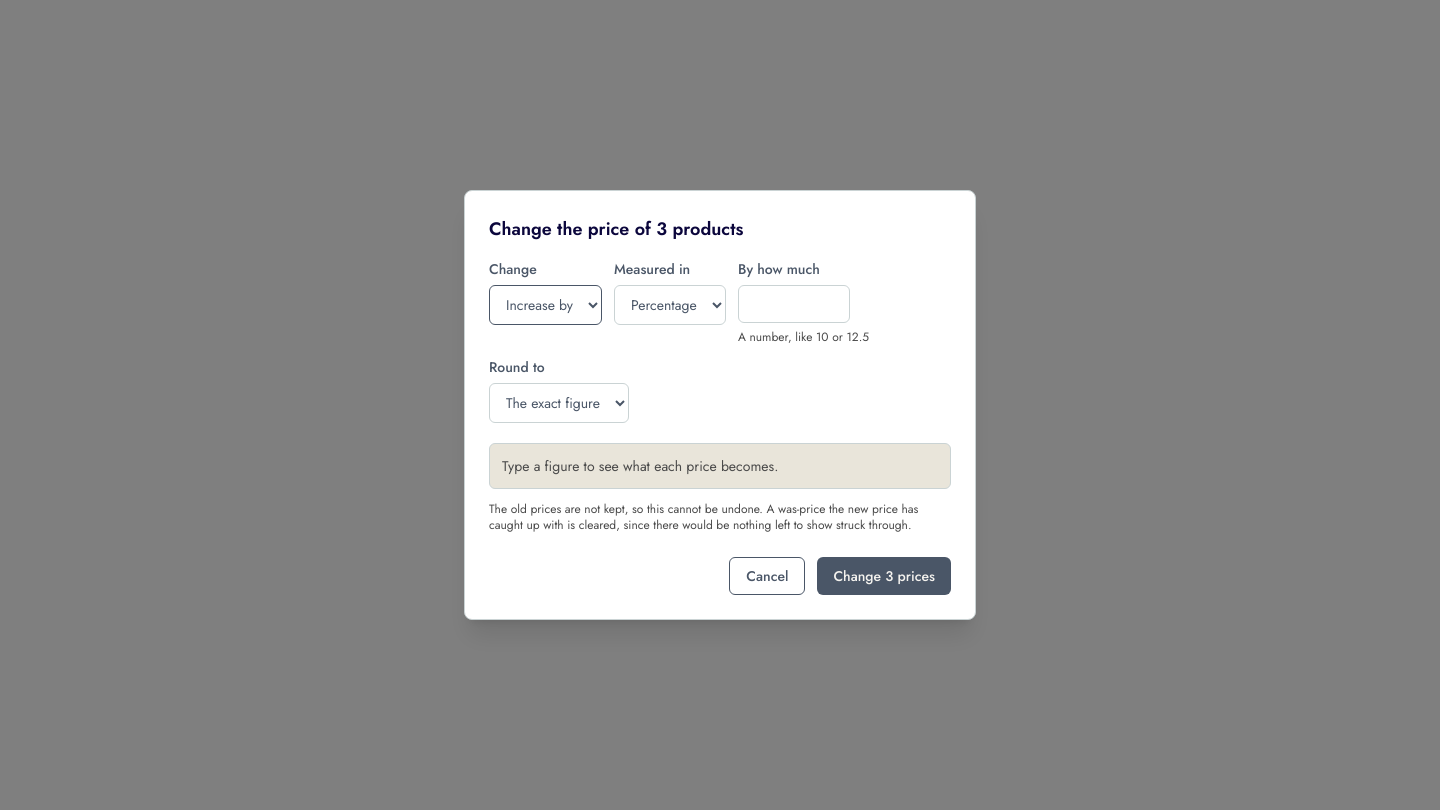
Test case: BulkPriceDialog › shows what each price becomes, as the figure is typed
Type "10" into the field labelled "By how much" at (794, 304), box x1=738 y1=285 x2=850 y2=323
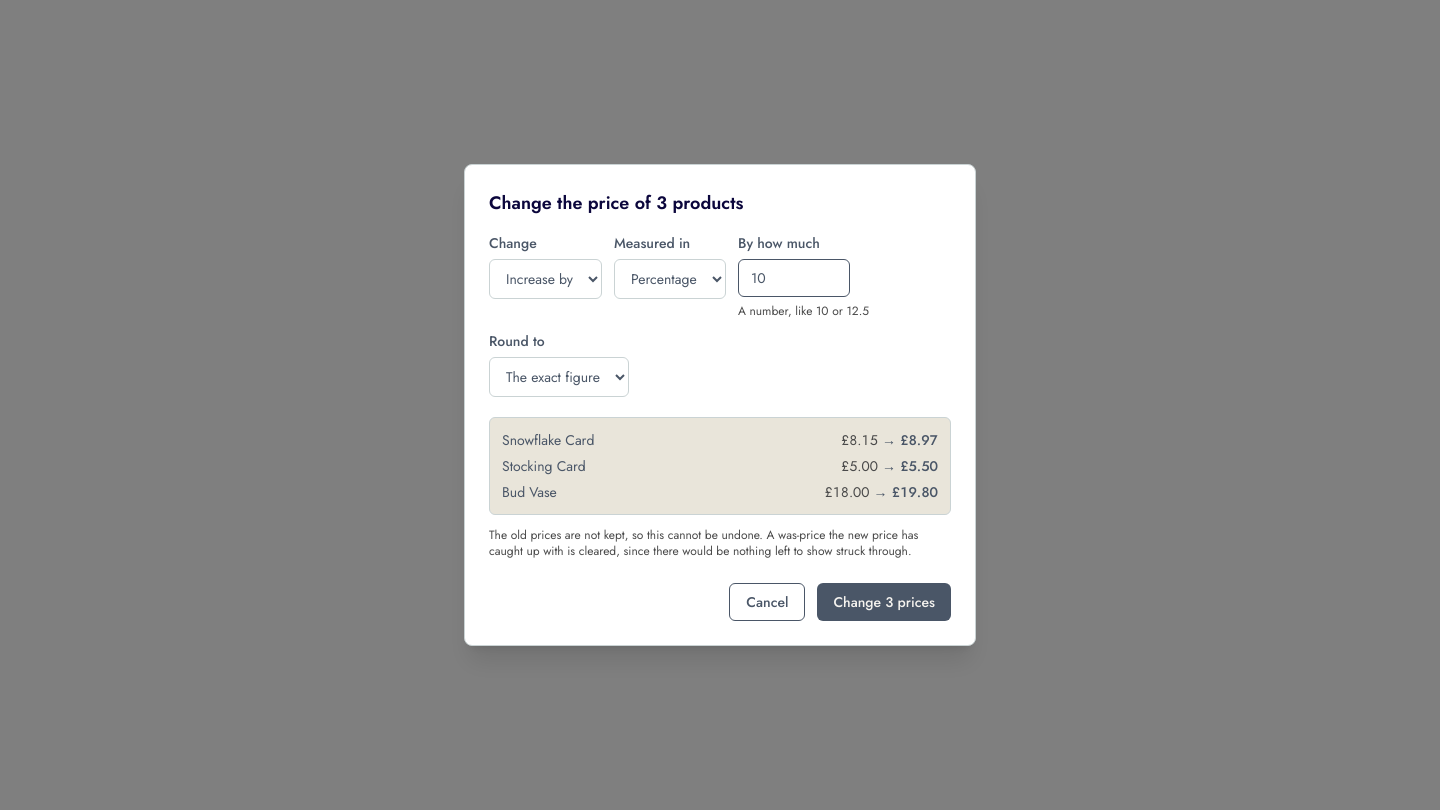
Check: the text "£8.97" is shown, box x1=900 y1=430 x2=938 y2=450
Check: the text "£5.50" is shown, box x1=900 y1=456 x2=938 y2=476
Check: the text "£19.80" is shown, box x1=892 y1=482 x2=938 y2=502
